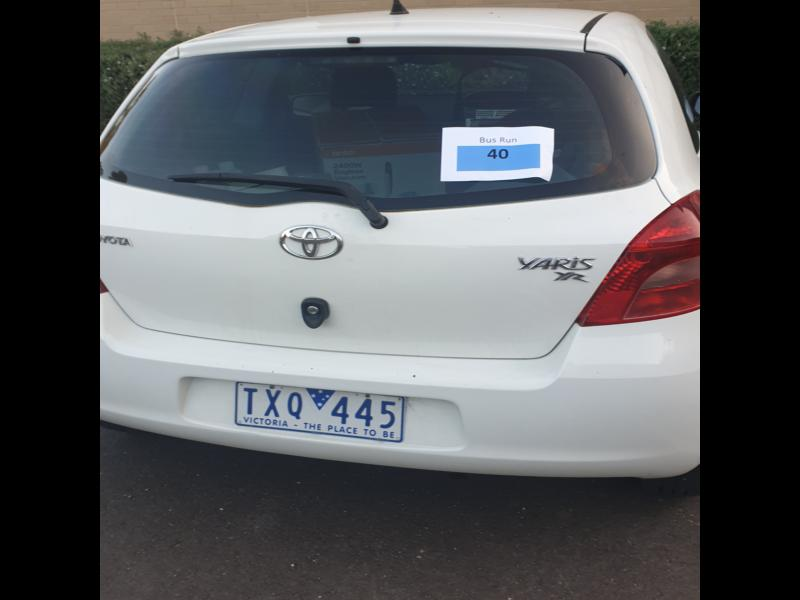BusRun: (455, 142, 543, 174)
PlateNo: (232, 380, 403, 442)
